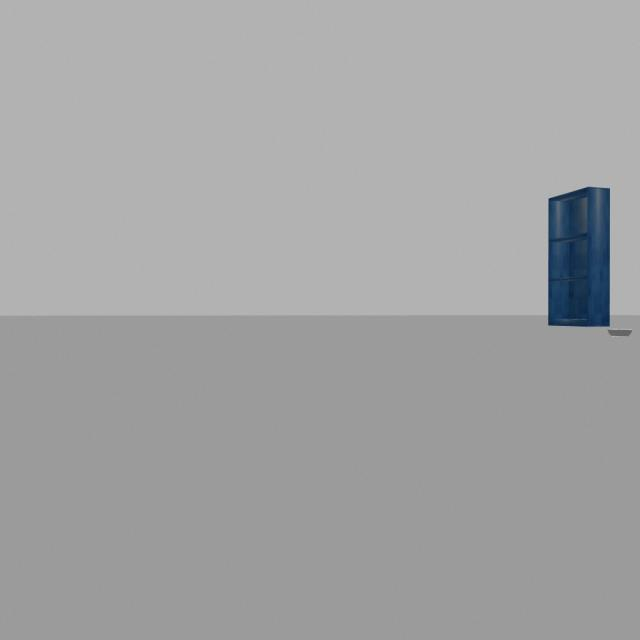bowl: (609, 323, 632, 343)
shelf: (539, 172, 617, 331)
